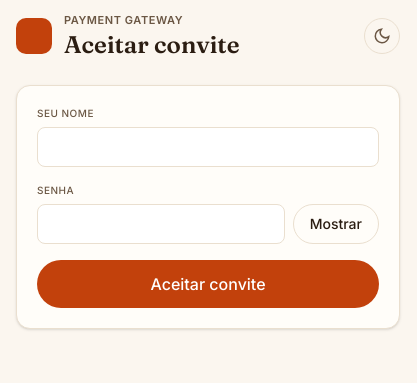
Scenario: passwords › noPasswordSurvivesAFailed invite 409
In the field labelled "Seu nome": (208, 146) x1=37 y1=126 x2=379 y2=166, type "Bruno"
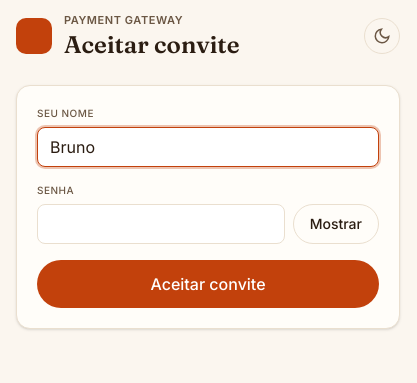
In the password field labelled "Senha": (161, 224) x1=37 y1=204 x2=285 y2=244, type "senha-unica-xyz"
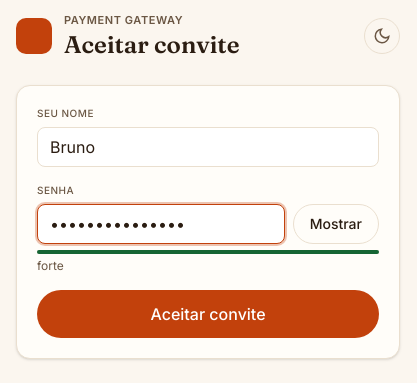
Click the button "Aceitar convite": click(208, 314) x1=37 y1=290 x2=379 y2=338
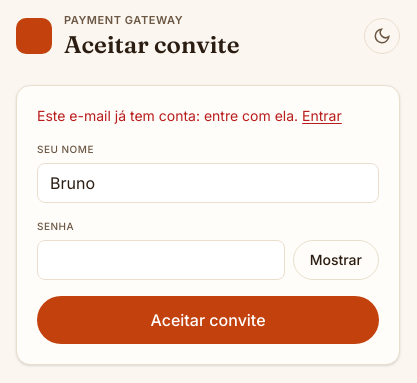
Expected: the text "Este e-mail já tem conta: entre com ela." is shown, x1=37 y1=106 x2=298 y2=124
